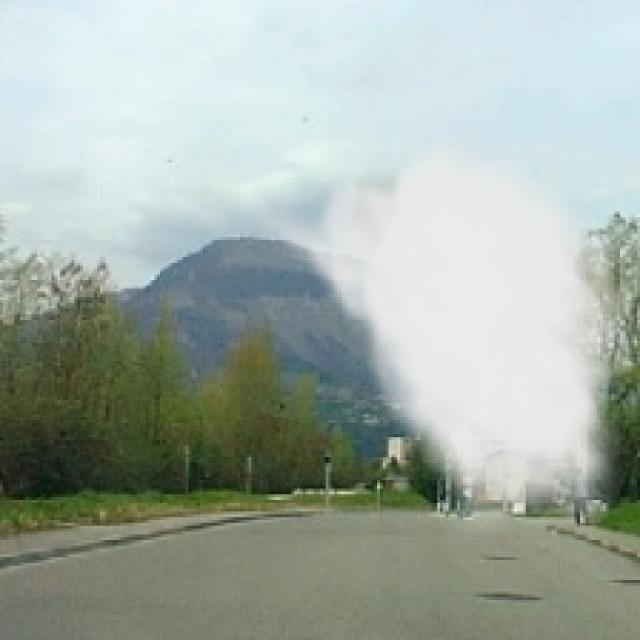smoke: (243, 123, 637, 551)
